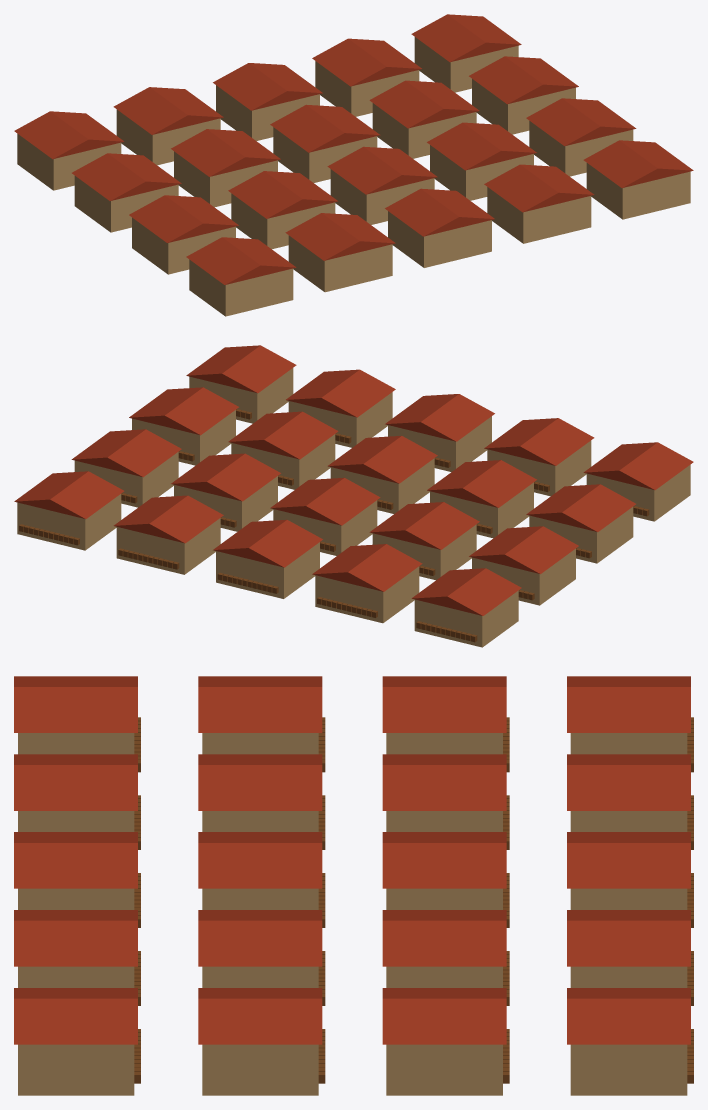
The model's file is market_block_collection.obj.
The picture shows the model from 3 angles, top to bottom: view 1: azimuth 30°, elevation 25°; view 2: azimuth 150°, elevation 25°; view 3: azimuth 270°, elevation 25°; orthographic projection. The views are drawn at different scales.
Parts seen in each view (by area): view 1: market_15_base, market_18_base, market_16_base, market_19_base, market_17_base, market_8_roof, market_12_roof, market_14_roof, market_0_roof, market_3_roof, market_19_roof, market_4_roof (+28 smaller); view 2: market_7_roof, market_9_roof, market_13_roof, market_4_roof, market_15_roof, market_18_roof, market_0_roof, market_14_roof, market_19_roof, market_3_roof, market_8_roof, market_10_roof (+28 smaller); view 3: market_5_roof, market_6_roof, market_7_roof, market_8_roof, market_9_roof, market_10_roof, market_11_roof, market_12_roof, market_13_roof, market_14_roof, market_0_roof, market_1_roof (+28 smaller).
Boxes of the visible parts, left/top/right/bottom form: market_15_base: left=189, top=259, right=293, bottom=316; market_18_base: left=487, top=187, right=591, bottom=243; market_16_base: left=288, top=235, right=392, bottom=292; market_19_base: left=586, top=163, right=690, bottom=219; market_17_base: left=388, top=211, right=491, bottom=267; market_8_roof: left=369, top=80, right=479, bottom=128; market_12_roof: left=327, top=146, right=437, bottom=194; market_14_roof: left=526, top=98, right=636, bottom=146; market_0_roof: left=14, top=111, right=124, bottom=159; market_3_roof: left=312, top=38, right=421, bottom=86; market_19_roof: left=583, top=140, right=693, bottom=187; market_4_roof: left=411, top=14, right=521, bottom=62; market_7_roof: left=270, top=477, right=380, bottom=525; market_9_roof: left=71, top=429, right=181, bottom=477; market_13_roof: left=228, top=411, right=338, bottom=459; market_4_roof: left=14, top=471, right=124, bottom=518; market_15_roof: left=583, top=442, right=693, bottom=490; market_18_roof: left=286, top=369, right=395, bottom=417; market_0_roof: left=411, top=568, right=521, bottom=615; market_14_roof: left=129, top=387, right=238, bottom=435; market_19_roof: left=186, top=345, right=296, bottom=393; market_3_roof: left=113, top=495, right=223, bottom=543; market_8_roof: left=171, top=453, right=280, bottom=501; market_10_roof: left=526, top=484, right=635, bottom=531; market_5_roof: left=382, top=676, right=506, bottom=732; market_6_roof: left=382, top=754, right=506, bottom=810; market_7_roof: left=382, top=832, right=506, bottom=888; market_8_roof: left=382, top=910, right=506, bottom=966; market_9_roof: left=382, top=988, right=506, bottom=1044; market_10_roof: left=198, top=676, right=322, bottom=732; market_11_roof: left=198, top=754, right=322, bottom=810; market_12_roof: left=198, top=832, right=322, bottom=888; market_13_roof: left=198, top=910, right=322, bottom=966; market_14_roof: left=198, top=988, right=322, bottom=1044; market_0_roof: left=567, top=676, right=690, bottom=732; market_1_roof: left=567, top=754, right=690, bottom=810.
Size of the model in its own units: 89.8 by 8 by 70.1.
